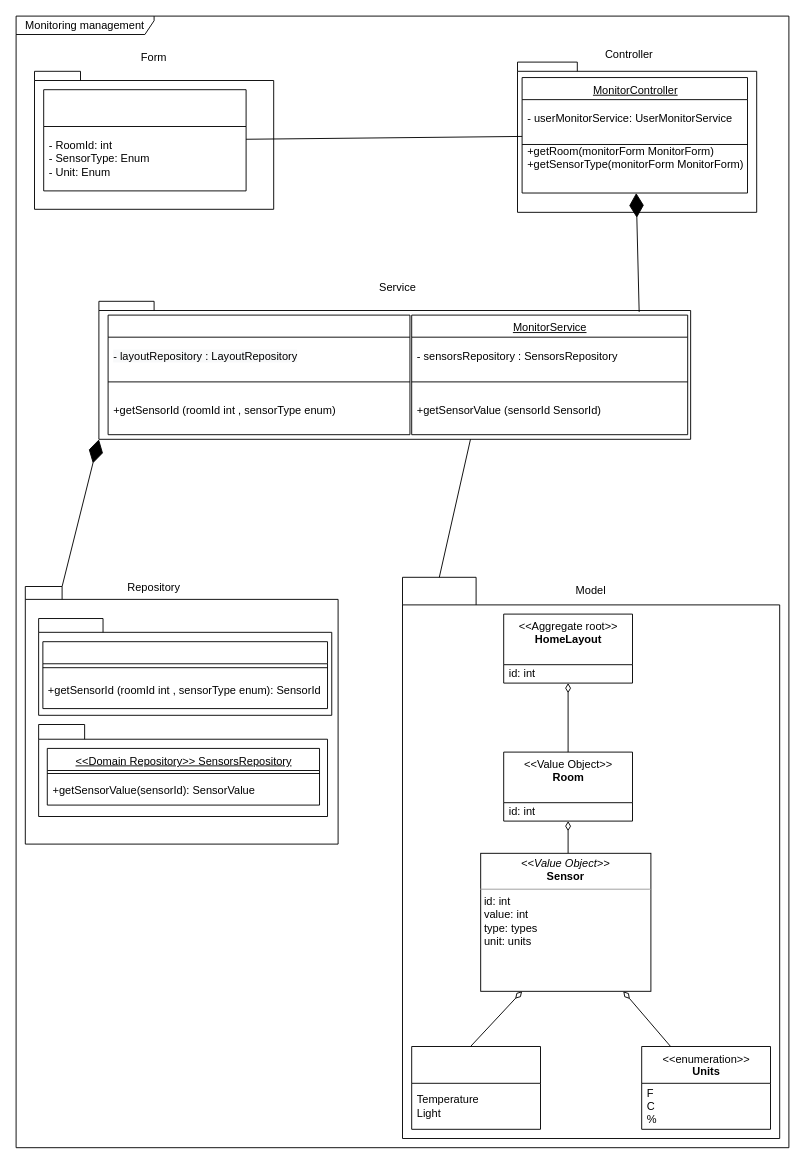
The diagram is 805 pixels wide and 1164 high, and some of its shapes have lost their labels. Each missing label, with the box of its shape:
<<Domain Repository>> LayoutRepository: (42, 641, 328, 709)
<<enumeration>> Types: (411, 1046, 540, 1129)
LayoutService: (107, 314, 410, 435)
Monitor Form: (43, 89, 246, 191)
